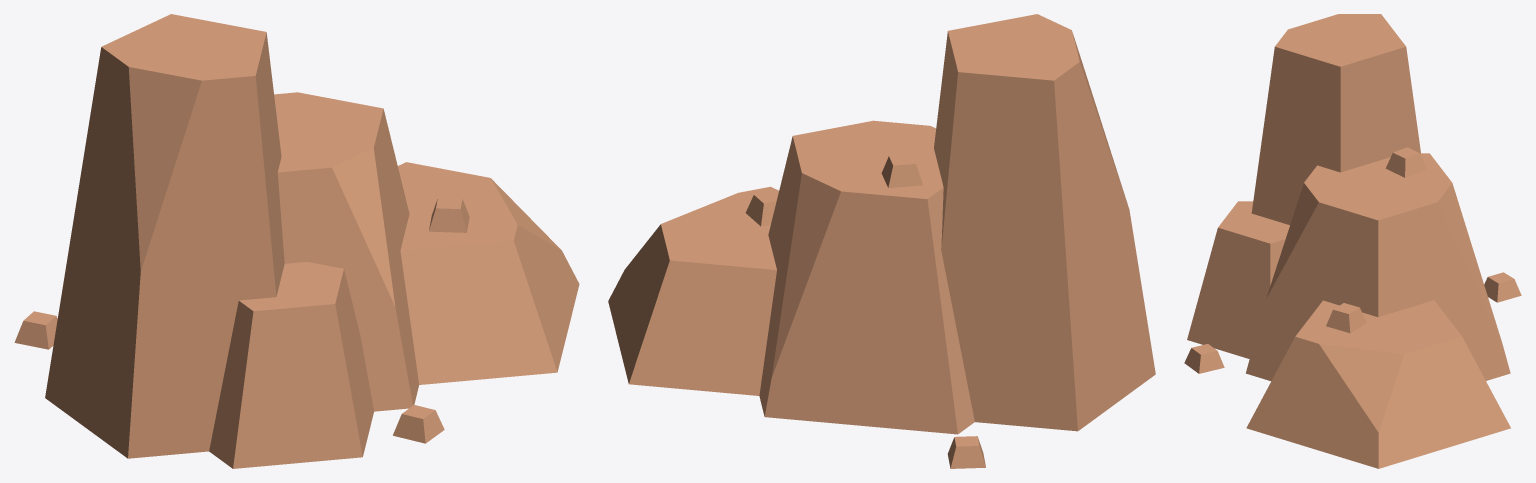
File: rock-sand-c.obj
3 views of the same model, side by side, from view 1: azimuth 30°, elevation 25°; view 2: azimuth 150°, elevation 25°; view 3: azimuth 270°, elevation 25° (orthographic). The views are drawn at different scales.
Bounding box in the file's own units: 0.7837 × 0.51 × 0.5691.
